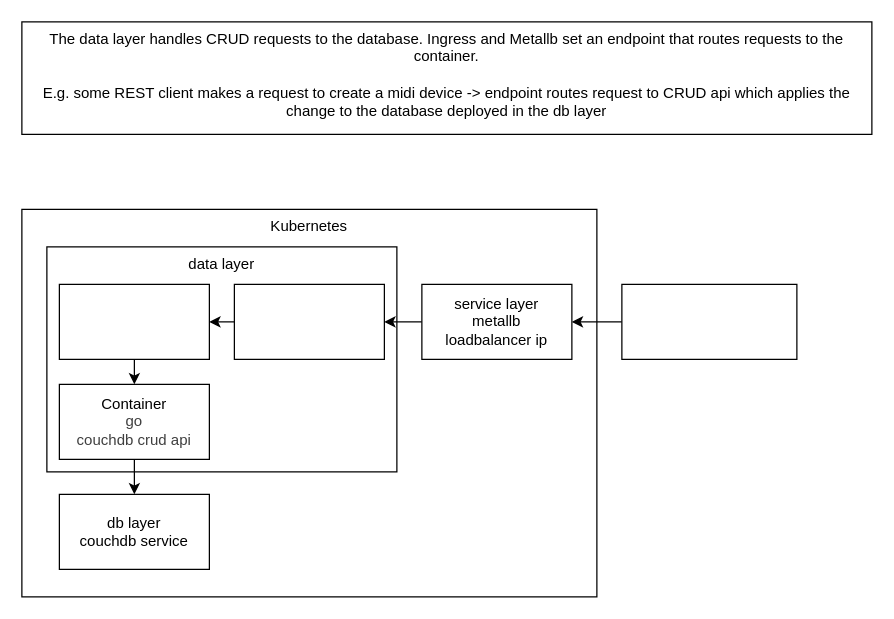
Some shapes in this 894 by 619 pixel diagram are drawn without their labels. Each missing label, with the centre of its shape:
Ingress nginx /*: point (308, 321)
REST Client http <data layer endpoint>/*: point (709, 321)
Service ClusterIP port 80 > 8080: point (133, 321)
